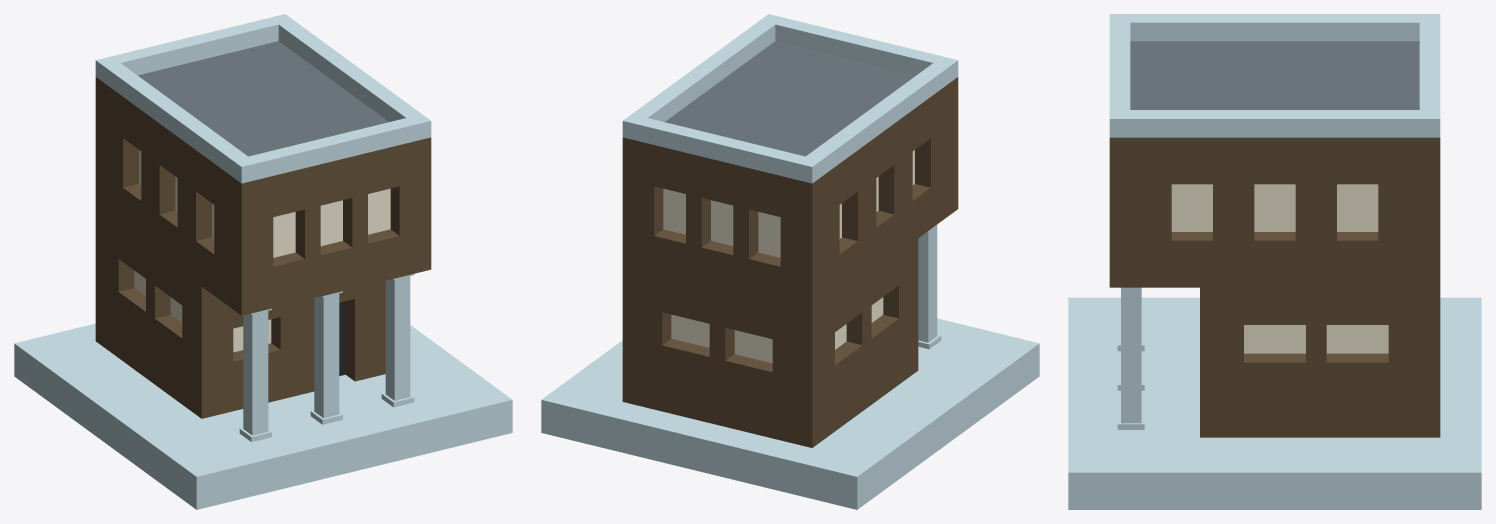
Rendered from Building_7_Base (Brown).obj.
The picture shows the model from 3 angles, left to right: view 1: azimuth 30°, elevation 25°; view 2: azimuth 150°, elevation 25°; view 3: azimuth 270°, elevation 25°; orthographic projection. The views are drawn at different scales.
Parts seen in each view (by area): view 1: Building_7_Base_(Brown); view 2: Building_7_Base_(Brown); view 3: Building_7_Base_(Brown).
Boxes of the visible parts, left/top/right/bottom form: Building_7_Base_(Brown): left=14, top=14, right=512, bottom=509; Building_7_Base_(Brown): left=541, top=14, right=1039, bottom=509; Building_7_Base_(Brown): left=1068, top=14, right=1481, bottom=509.
Size of the model in its own units: 2 by 1.9 by 2.
